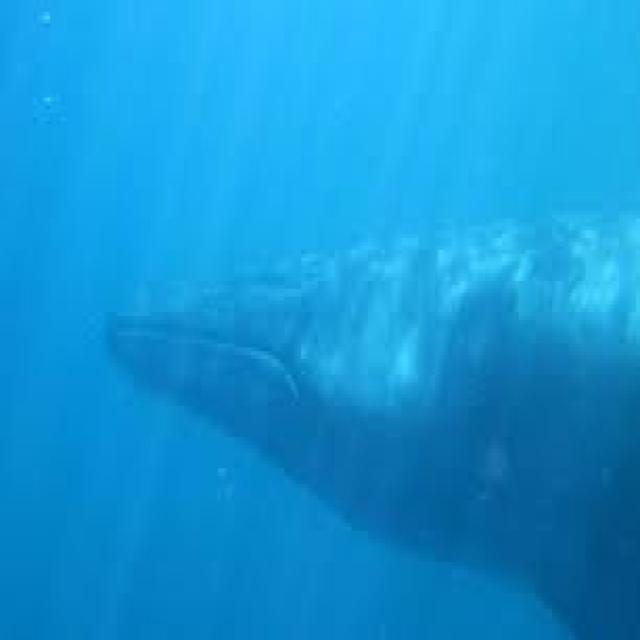blue_whale: (81, 187, 640, 593)
